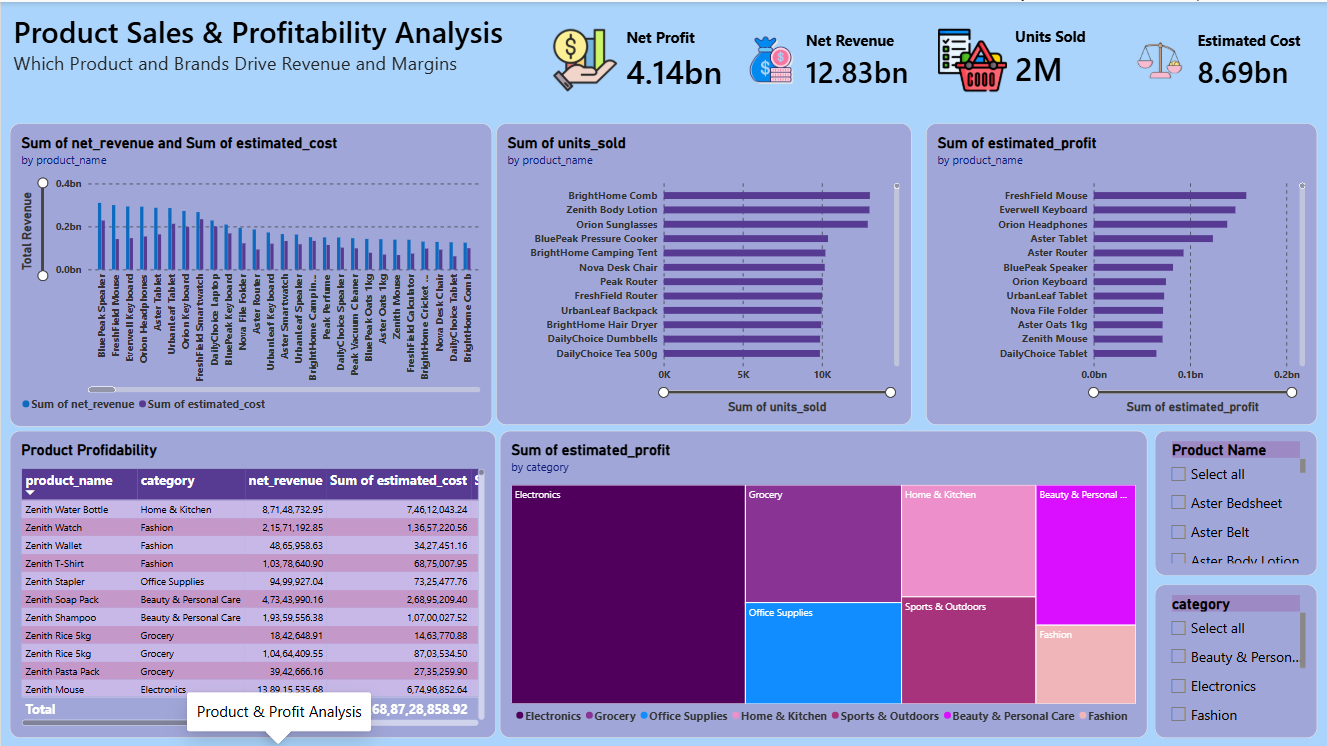

The dashboard page shown, as its layout file describes it:
{"tool":"powerbi","page":{"name":"Product & Profit Analysis","canvas":[1920,1080],"ordinal":1},"visuals":[{"type":"clusteredColumnChart","fields":{"Category":["gold_profit_analysis.product_name"],"Y":["Sum(gold_profit_analysis.net_revenue)","Sum(gold_profit_analysis.estimated_cost)"]},"box":[13.1,175.6,698.7,439],"z":0},{"type":"clusteredBarChart","fields":{"Category":["gold_profit_analysis.product_name"],"Y":["Sum(gold_profit_analysis.estimated_profit)"]},"box":[1339.4,175.6,566,437.1],"z":1000},{"type":"treemap","fields":{"Group":["gold_profit_analysis.category"],"Values":["Sum(gold_profit_analysis.estimated_profit)"]},"box":[722.9,620.2,937.8,444.6],"z":2000},{"type":"clusteredBarChart","fields":{"Category":["gold_profit_analysis.product_name"],"Y":["Sum(gold_profit_analysis.units_sold)"]},"box":[717.3,175.6,601.5,437.1],"z":3000},{"type":"tableEx","title":"Product Profidability","fields":{"Values":["gold_profit_analysis.product_name","gold_profit_analysis.category","gold_profit_analysis.net_revenue","Sum(gold_profit_analysis.estimated_cost)","Sum(gold_profit_analysis.estimated_profit)"]},"box":[13.1,620.2,704.3,444.6],"z":4000},{"type":"slicer","fields":{"Values":["gold_profit_analysis.product_name"]},"box":[1670.1,620.2,235.4,209.2],"z":5000},{"type":"slicer","fields":{"Values":["gold_profit_analysis.category"]},"box":[1670.1,842.5,235.4,222.3],"z":6000},{"type":"textbox","box":[18.7,13.1,722.9,121.4],"z":7000},{"type":"cardVisual","fields":{"Data":["gold_profit_analysis.Estimated Profit","Sum(gold_profit_analysis.net_revenue)","Sum(gold_profit_analysis.units_sold)","Sum(gold_profit_analysis.estimated_cost)"]},"box":[779,13.1,1126.4,145.7],"z":9000}]}

Visuals, with their boxes in screenshot pixels (x1, y1, x2, y2), scaled from the page's 1920x1080 canvas onto the 1327x746 screenshot:
clusteredColumnChart - gold_profit_analysis.product_name x Sum(gold_profit_analysis.net_revenue): 9 121 492 425
clusteredBarChart - gold_profit_analysis.product_name x Sum(gold_profit_analysis.estimated_profit): 926 121 1317 423
treemap - gold_profit_analysis.category x Sum(gold_profit_analysis.estimated_profit): 500 428 1148 736
clusteredBarChart - gold_profit_analysis.product_name x Sum(gold_profit_analysis.units_sold): 496 121 911 423
"Product Profidability" tableEx: 9 428 496 736
slicer - gold_profit_analysis.product_name: 1154 428 1317 573
slicer - gold_profit_analysis.category: 1154 582 1317 736
textbox: 13 9 513 93
cardVisual - gold_profit_analysis.Estimated Profit x Sum(gold_profit_analysis.net_revenue): 538 9 1317 110
